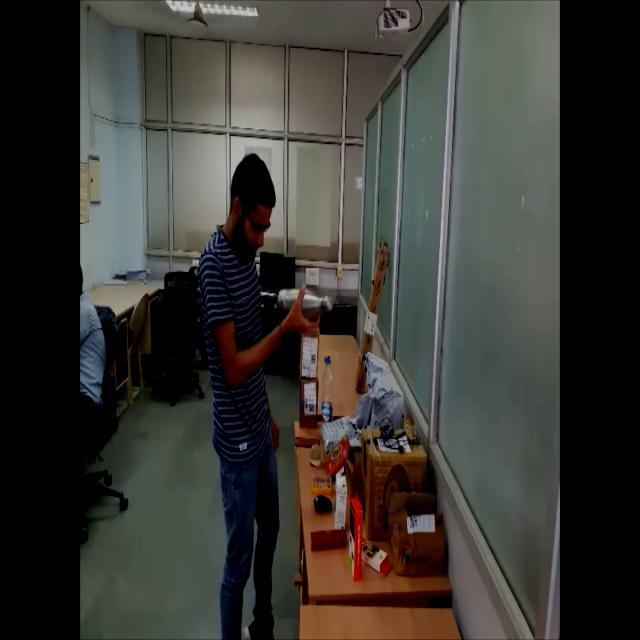normal: (193, 145, 328, 638)
